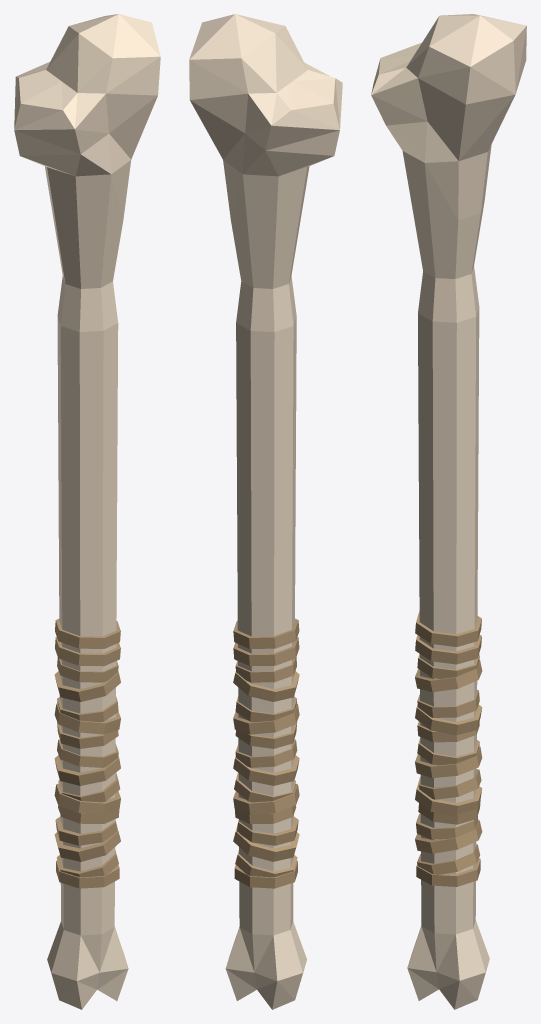
File: _hammer_24.fbx
3 renders of one model, left to right at view 1: azimuth 30°, elevation 25°; view 2: azimuth 150°, elevation 25°; view 3: azimuth 330°, elevation 25°, orthographic.
Visible parts, largest first — view 1: hammer_24; view 2: hammer_24; view 3: hammer_24.
Boxes of the visible parts, x1,y1,x2,y2 form: hammer_24: (14,14,160,1009); hammer_24: (189,14,342,1009); hammer_24: (371,14,526,1009).
Bounding box in the file's own units: 12.27 × 81.87 × 9.93.
